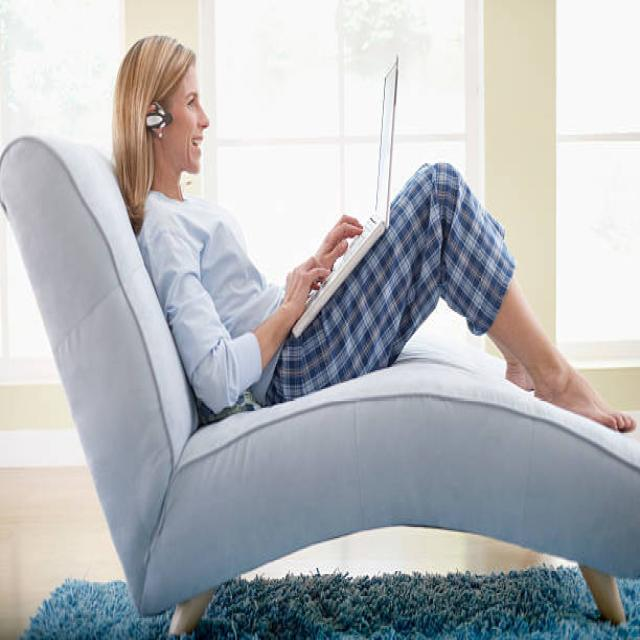airpods: (144, 101, 174, 133)
